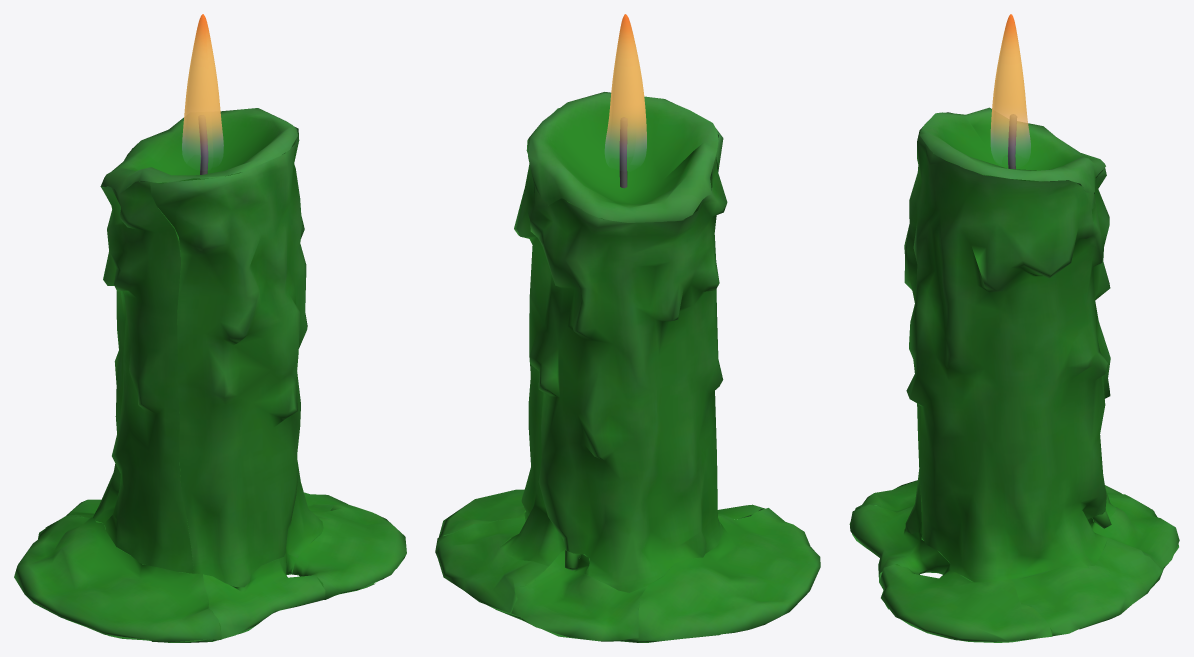
Rendered from EcclesiasticalMedium.glb.
The picture shows the model from 3 angles, left to right: view 1: azimuth 30°, elevation 25°; view 2: azimuth 150°, elevation 25°; view 3: azimuth 270°, elevation 25°; orthographic projection. The views are drawn at different scales.
Parts seen in each view (by area): view 1: XBase, Flame; view 2: XBase, Flame, XRope01; view 3: XBase, Flame.
Boxes of the visible parts, x1,y1,x2,y2 form: XBase: (14,108,406,642); Flame: (182,14,223,158); XBase: (435,92,820,642); Flame: (605,14,646,161); XRope01: (619,117,627,188); XBase: (849,107,1179,642); Flame: (990,14,1030,156).
Bounding box in the file's own units: 1.45 × 2.19 × 1.2.
3 materials, 2 textured.
